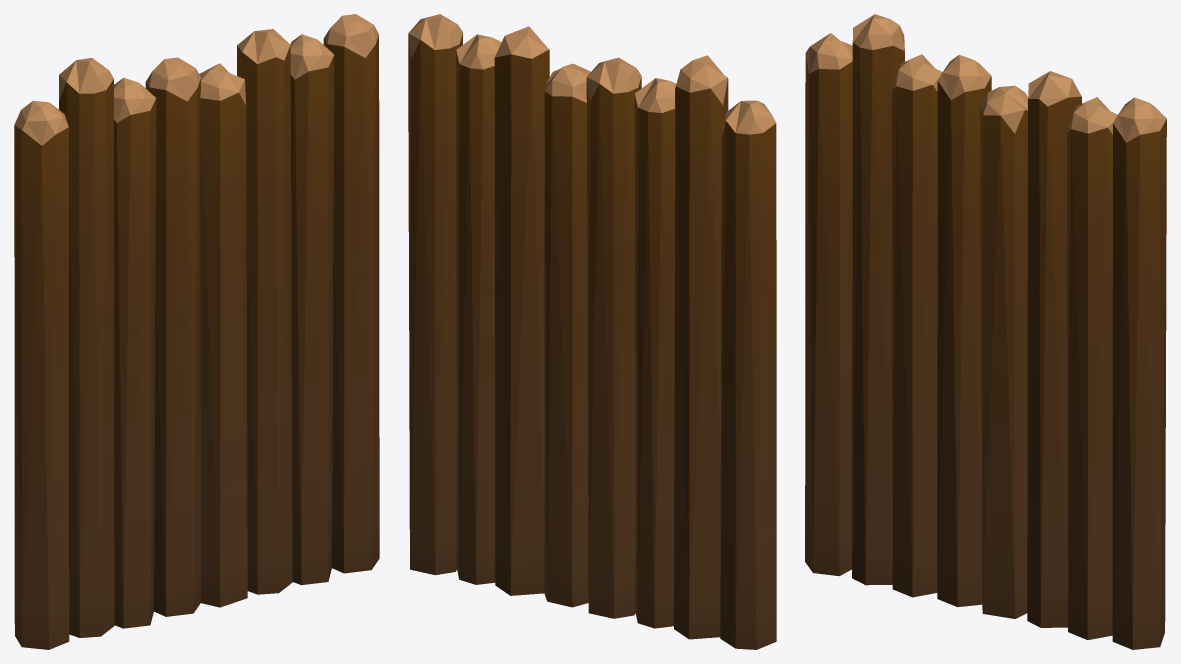
File: FenceBig_01.fbx
3 views of the same model, side by side, from view 1: azimuth 30°, elevation 25°; view 2: azimuth 150°, elevation 25°; view 3: azimuth 330°, elevation 25° (orthographic).
Parts seen in each view (by area): view 1: FenceBig_01; view 2: FenceBig_01; view 3: FenceBig_01.
Part boxes in pixels (box(x1,y1,x2,y2)): FenceBig_01: box(14, 14, 379, 649); FenceBig_01: box(408, 14, 776, 649); FenceBig_01: box(805, 14, 1166, 649).
Size of the model in its own units: 226 by 341 by 32.1.
